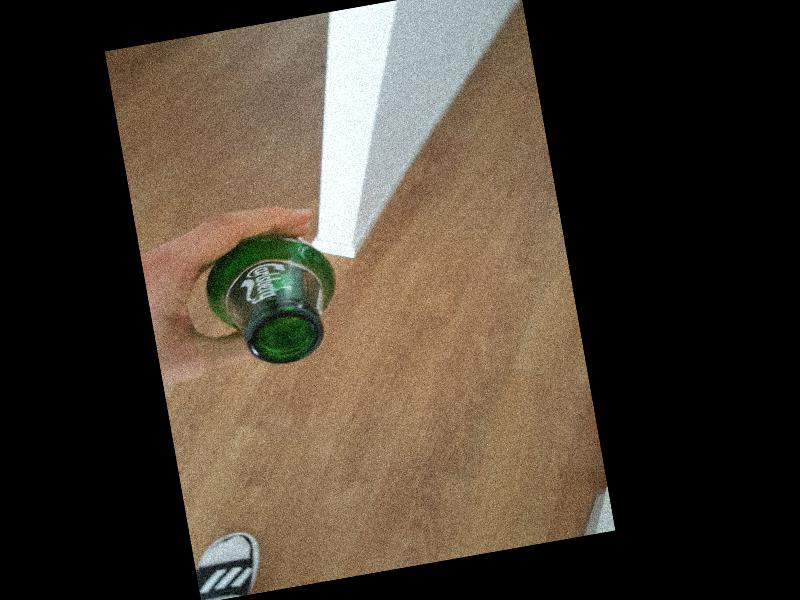Beer: (196, 224, 348, 375)
